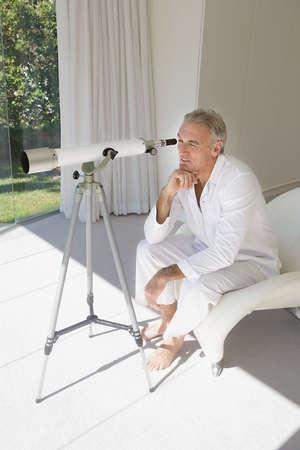person: (143, 109, 279, 376)
